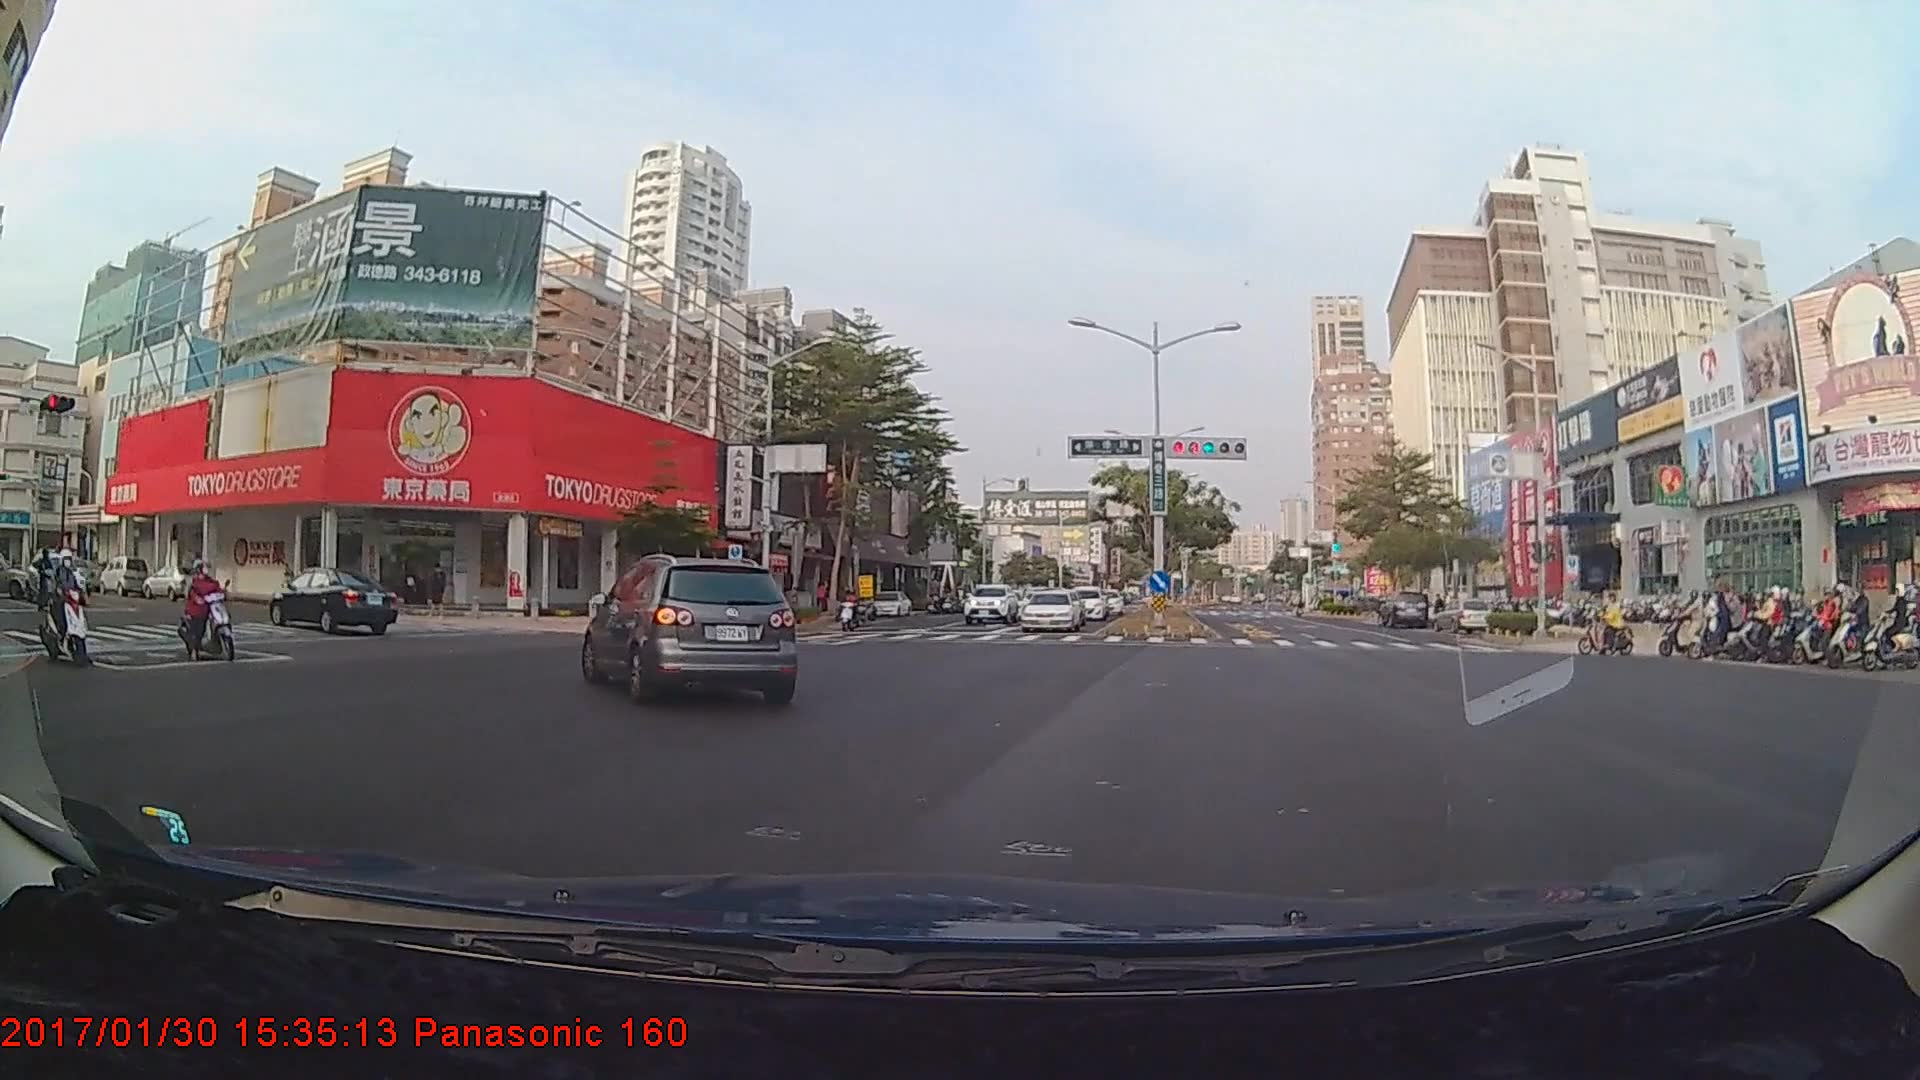rider: (34, 555, 94, 669), (171, 560, 235, 666), (1723, 586, 1788, 662), (1665, 597, 1740, 659), (1573, 585, 1634, 656), (1781, 588, 1830, 664), (1817, 584, 1866, 659), (837, 584, 858, 635)
vehicle: (583, 555, 795, 705), (271, 566, 396, 636), (27, 554, 88, 606), (1018, 587, 1082, 630), (962, 581, 1019, 624), (40, 556, 95, 593), (1375, 588, 1428, 626), (1061, 583, 1108, 621), (868, 589, 910, 616)
